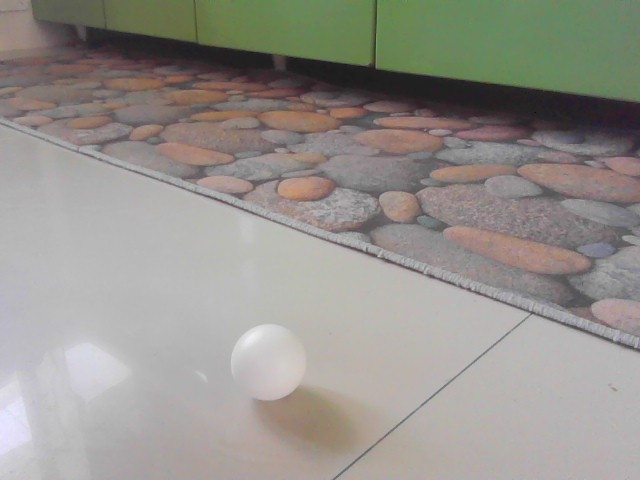ball: (229, 327, 309, 399)
